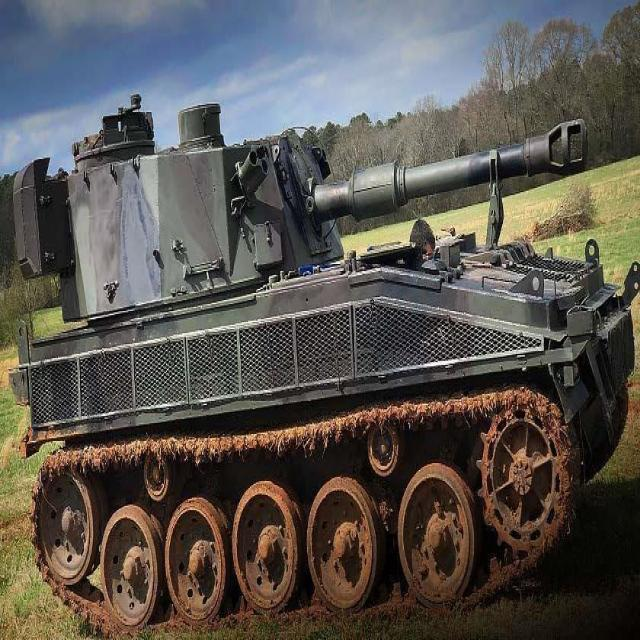Tanks: (9, 102, 617, 589)
